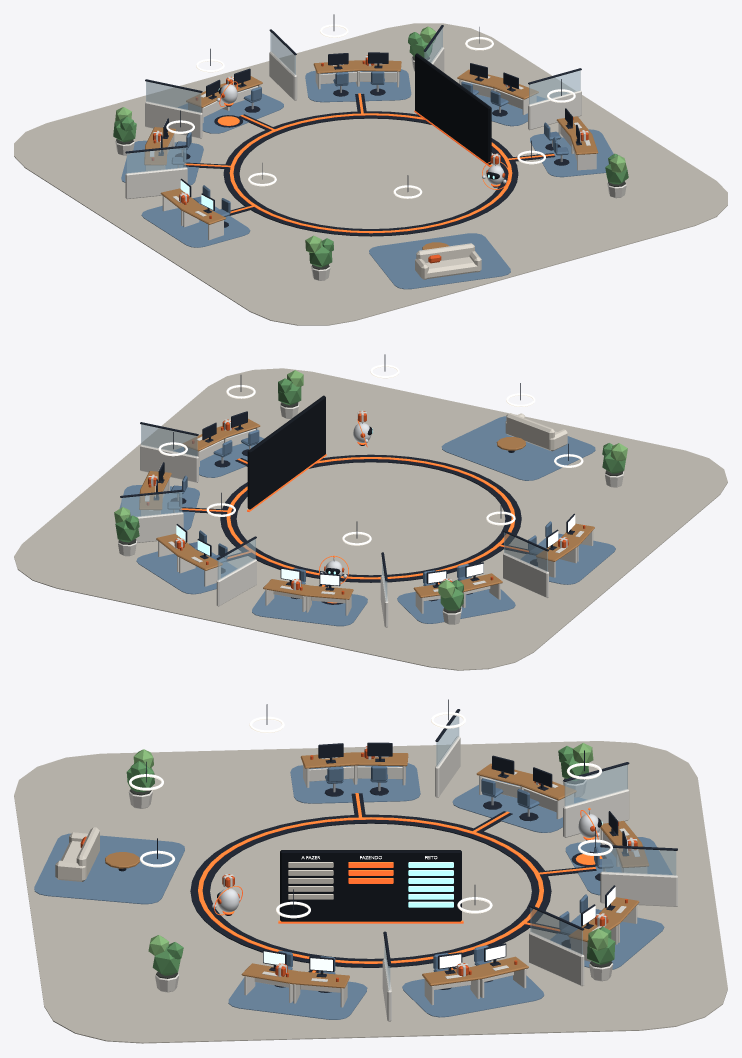
Rendered from interior_F02.glb.
3 renders of one model, top to bottom at view 1: azimuth 30°, elevation 25°; view 2: azimuth 150°, elevation 25°; view 3: azimuth 270°, elevation 25°, orthographic. The views are drawn at different scales.
Visible parts, largest first — view 1: AR_TorreHZK_F02_PisoAcab, AR_TorreHZK_F02_AnelBase, AR_TorreHZK_F02_Painel, AR_TorreHZK_F02_Tapete_42, AR_TorreHZK_F02_Divisoria_41, AR_TorreHZK_F02_Divisoria_40, AR_TorreHZK_F02_Divisoria_42, AR_TorreHZK_F02_Tapete_25, AR_TorreHZK_F02_Tapete_6, AR_TorreHZK_F02_Sofa_44, AR_TorreHZK_F02_AnelLuz, AR_TorreHZK_F02_Tapete_31 (+21 smaller); view 2: AR_TorreHZK_F02_PisoAcab, AR_TorreHZK_F02_Painel, AR_TorreHZK_F02_AnelBase, AR_TorreHZK_F02_Tapete_42, AR_TorreHZK_F02_Divisoria_42, AR_TorreHZK_F02_Divisoria_38, AR_TorreHZK_F02_Tapete_12, AR_TorreHZK_F02_Divisoria_41, AR_TorreHZK_F02_Divisoria_39, AR_TorreHZK_F02_Tapete_19, AR_TorreHZK_F02_Tapete_6, AR_TorreHZK_F02_AnelLuz (+20 smaller); view 3: AR_TorreHZK_F02_PisoAcab, AR_TorreHZK_F02_Painel, AR_TorreHZK_F02_AnelBase, AR_TorreHZK_F02_Tapete_42, AR_TorreHZK_F02_Divisoria_39, AR_TorreHZK_F02_QuadroCartoes, AR_TorreHZK_F02_Divisoria_40, AR_TorreHZK_F02_Tapete_31, AR_TorreHZK_F02_Tapete_0, AR_TorreHZK_F02_Divisoria_38, AR_TorreHZK_F02_Tapete_25, AR_TorreHZK_F02_AnelLuz (+25 smaller).
Part boxes in pixels (left/top/right/bottom): AR_TorreHZK_F02_PisoAcab: left=14, top=23, right=727, bottom=325; AR_TorreHZK_F02_AnelBase: left=223, top=111, right=518, bottom=236; AR_TorreHZK_F02_Painel: left=415, top=53, right=491, bottom=164; AR_TorreHZK_F02_Tapete_42: left=369, top=233, right=510, bottom=289; AR_TorreHZK_F02_Divisoria_41: left=125, top=145, right=187, bottom=199; AR_TorreHZK_F02_Divisoria_40: left=145, top=79, right=202, bottom=138; AR_TorreHZK_F02_Divisoria_42: left=528, top=68, right=581, bottom=130; AR_TorreHZK_F02_Tapete_25: left=141, top=198, right=250, bottom=247; AR_TorreHZK_F02_Tapete_6: left=305, top=69, right=411, bottom=102; AR_TorreHZK_F02_Sofa_44: left=415, top=243, right=481, bottom=279; AR_TorreHZK_F02_AnelLuz: left=229, top=113, right=512, bottom=233; AR_TorreHZK_F02_Tapete_31: left=530, top=129, right=613, bottom=177; AR_TorreHZK_F02_PisoAcab: left=14, top=368, right=727, bottom=670; AR_TorreHZK_F02_Painel: left=247, top=395, right=325, bottom=509; AR_TorreHZK_F02_AnelBase: left=220, top=454, right=521, bottom=582; AR_TorreHZK_F02_Tapete_42: left=441, top=416, right=595, bottom=480; AR_TorreHZK_F02_Divisoria_42: left=140, top=422, right=198, bottom=482; AR_TorreHZK_F02_Divisoria_38: left=120, top=489, right=183, bottom=542; AR_TorreHZK_F02_Tapete_12: left=252, top=591, right=367, bottom=626; AR_TorreHZK_F02_Divisoria_41: left=503, top=530, right=548, bottom=597; AR_TorreHZK_F02_Divisoria_39: left=216, top=536, right=256, bottom=606; AR_TorreHZK_F02_Tapete_19: left=397, top=589, right=515, bottom=623; AR_TorreHZK_F02_Tapete_6: left=136, top=543, right=236, bottom=594; AR_TorreHZK_F02_AnelLuz: left=226, top=457, right=515, bottom=579; AR_TorreHZK_F02_PisoAcab: left=14, top=741, right=727, bottom=1043; AR_TorreHZK_F02_Painel: left=280, top=850, right=461, bottom=921; AR_TorreHZK_F02_AnelBase: left=190, top=814, right=551, bottom=967; AR_TorreHZK_F02_Tapete_42: left=34, top=833, right=184, bottom=904; AR_TorreHZK_F02_Divisoria_39: left=600, top=844, right=677, bottom=906; AR_TorreHZK_F02_QuadroCartoes: left=288, top=862, right=453, bottom=907; AR_TorreHZK_F02_Divisoria_40: left=563, top=762, right=629, bottom=837; AR_TorreHZK_F02_Tapete_31: left=228, top=978, right=367, bottom=1019; AR_TorreHZK_F02_Tapete_0: left=402, top=975, right=544, bottom=1017; AR_TorreHZK_F02_Divisoria_38: left=529, top=905, right=584, bottom=986; AR_TorreHZK_F02_Tapete_25: left=290, top=763, right=420, bottom=803; AR_TorreHZK_F02_AnelLuz: left=198, top=817, right=543, bottom=963.
Size of the model in its own units: 21.95 by 3.33 by 21.95.
